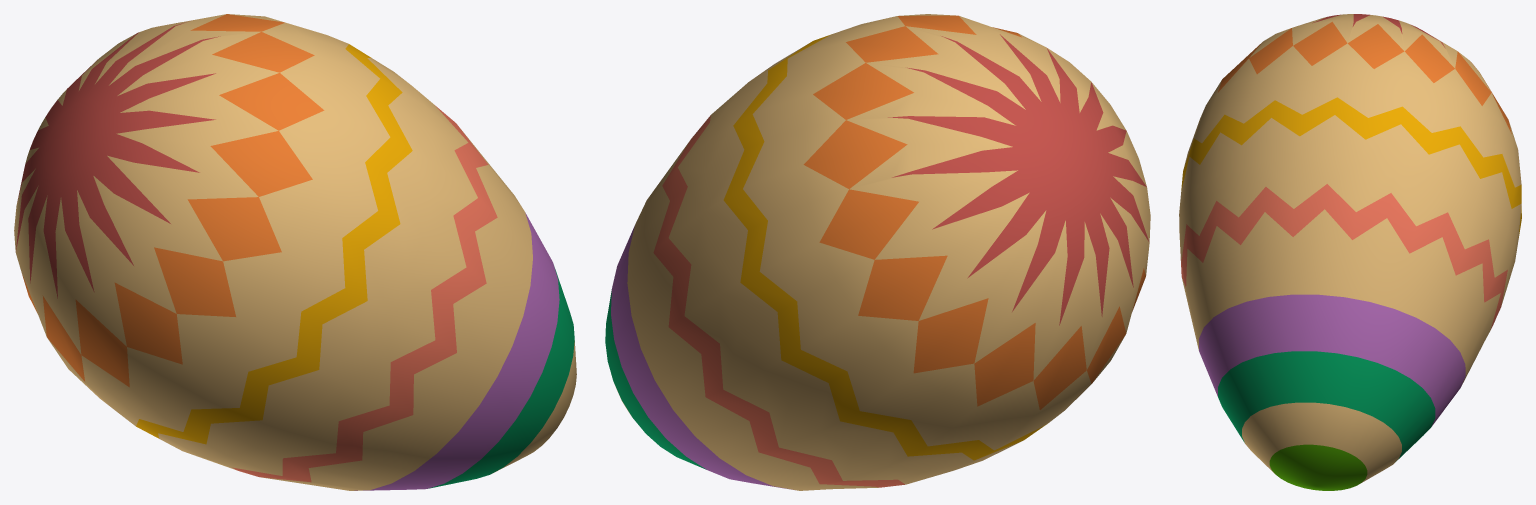
The model's file is Osterei neu.fbx.
3 views of the same model, side by side, from view 1: azimuth 30°, elevation 25°; view 2: azimuth 150°, elevation 25°; view 3: azimuth 270°, elevation 25° (orthographic). The views are drawn at different scales.
Visible parts, largest first — view 1: Osterei.001; view 2: Osterei.001; view 3: Osterei.001.
Boxes of the visible parts, <box> form: Osterei.001: <box>14,14,576,490</box>; Osterei.001: <box>605,14,1150,490</box>; Osterei.001: <box>1179,14,1521,490</box>.
Size of the model in its own units: 18.44 by 16.67 by 13.98.
